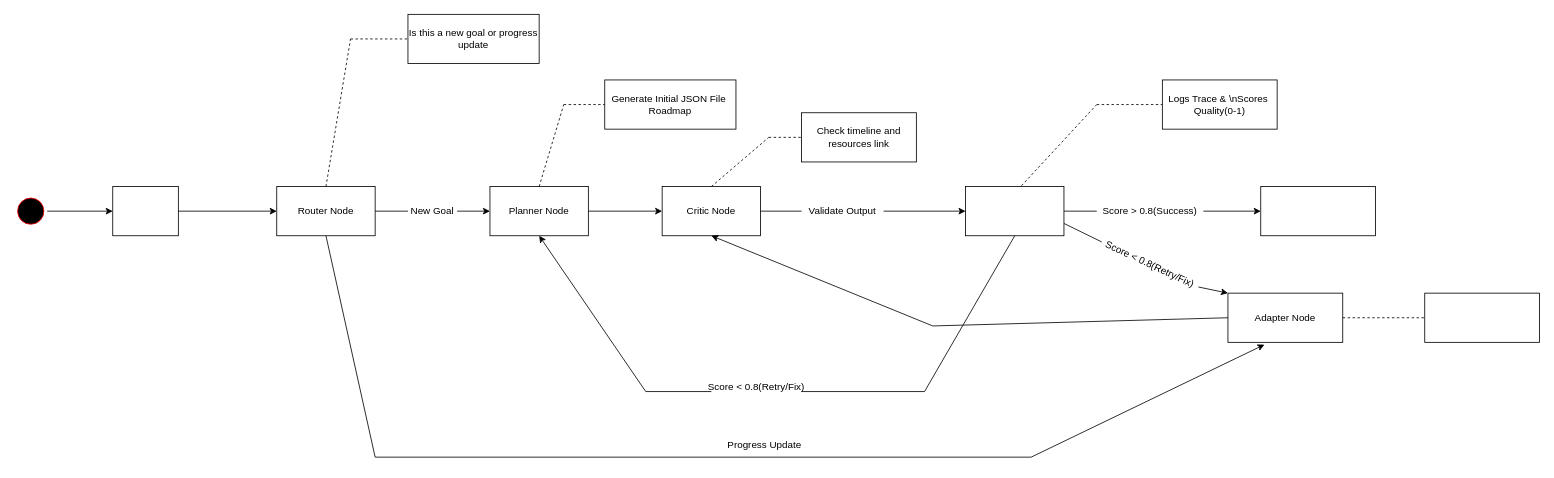
This 1554x478 diagram has some shape labels left out. Each missing label, with the box of its shape:
Final Output: (1260, 186, 1376, 236)
Modified Plan based on user struggle: (1424, 292, 1540, 342)
Opik Evaluation: (965, 186, 1064, 236)
User Input: (112, 186, 178, 236)
